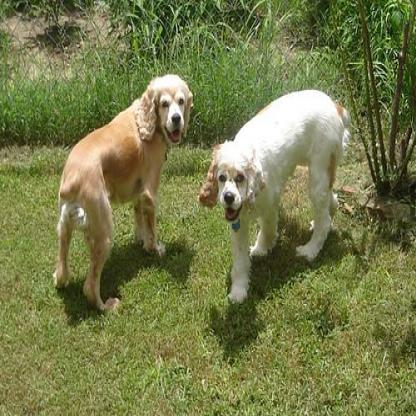cocker_spaniel: (196, 86, 354, 308), (53, 71, 190, 315)
